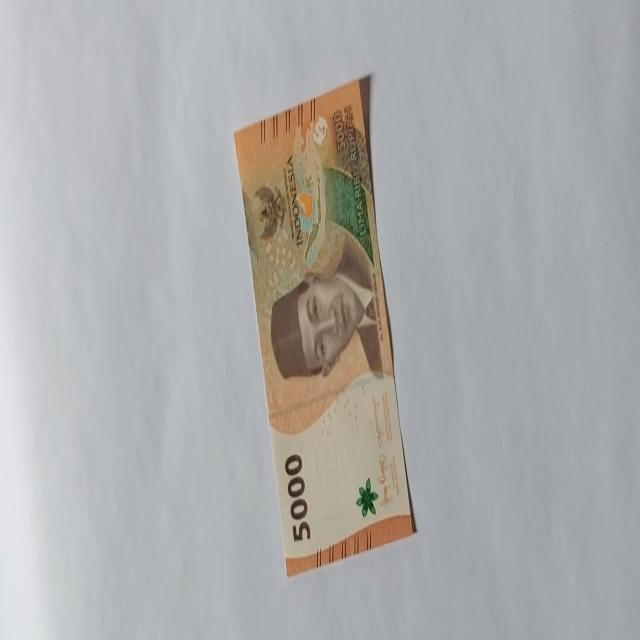lima ribu rupiah: (233, 74, 417, 576)
